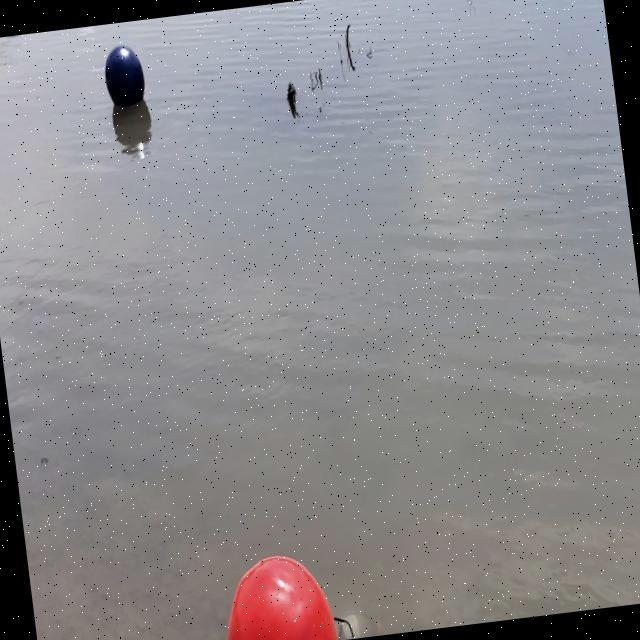buoy: (213, 543, 356, 640), (98, 39, 149, 117)
